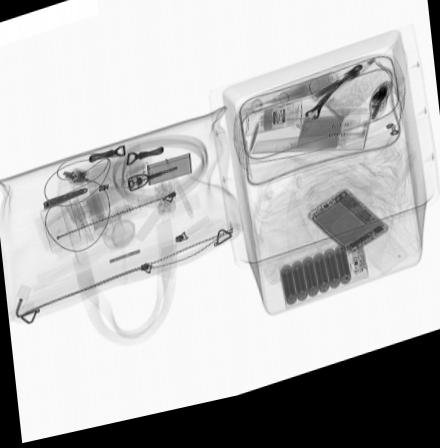Powerbank: (279, 252, 371, 322)
